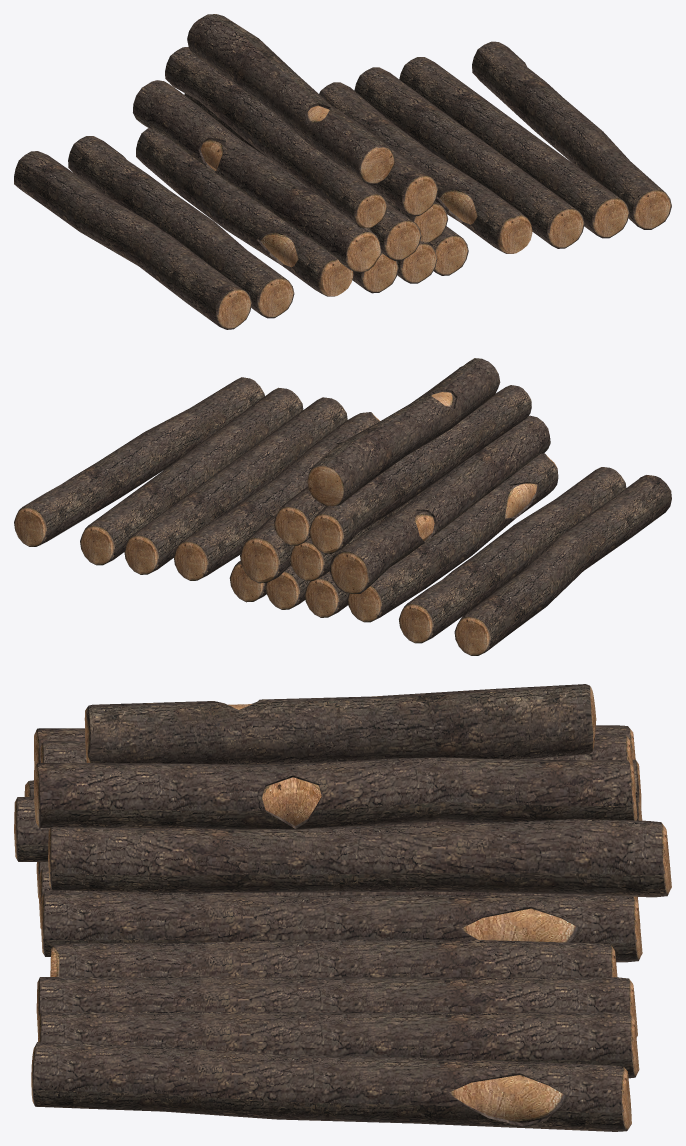
The model's file is log_pile.glb.
The picture shows the model from 3 angles, top to bottom: view 1: azimuth 30°, elevation 25°; view 2: azimuth 150°, elevation 25°; view 3: azimuth 270°, elevation 25°; orthographic projection. The views are drawn at different scales.
Parts seen in each view (by area): view 1: brown wood.001, brown wood.002, brown wood.003, brown wood; view 2: brown wood.001, brown wood.002, brown wood.003, brown wood; view 3: brown wood.001, brown wood.002, brown wood.003.
Part boxes in pixels (<box>): brown wood.001: <box>133,14,468,296</box>; brown wood.002: <box>319,41,671,253</box>; brown wood.003: <box>14,151,251,329</box>; brown wood: <box>68,136,294,318</box>; brown wood.001: <box>229,358,558,622</box>; brown wood.002: <box>14,377,379,580</box>; brown wood.003: <box>454,475,671,655</box>; brown wood: <box>399,467,626,643</box>; brown wood.001: <box>14,684,671,962</box>; brown wood.002: <box>31,939,639,1131</box>; brown wood.003: <box>34,725,635,768</box>.
Size of the model in its own units: 4.59 by 1.31 by 3.47.
Materials: 1 (1 with a texture image).
